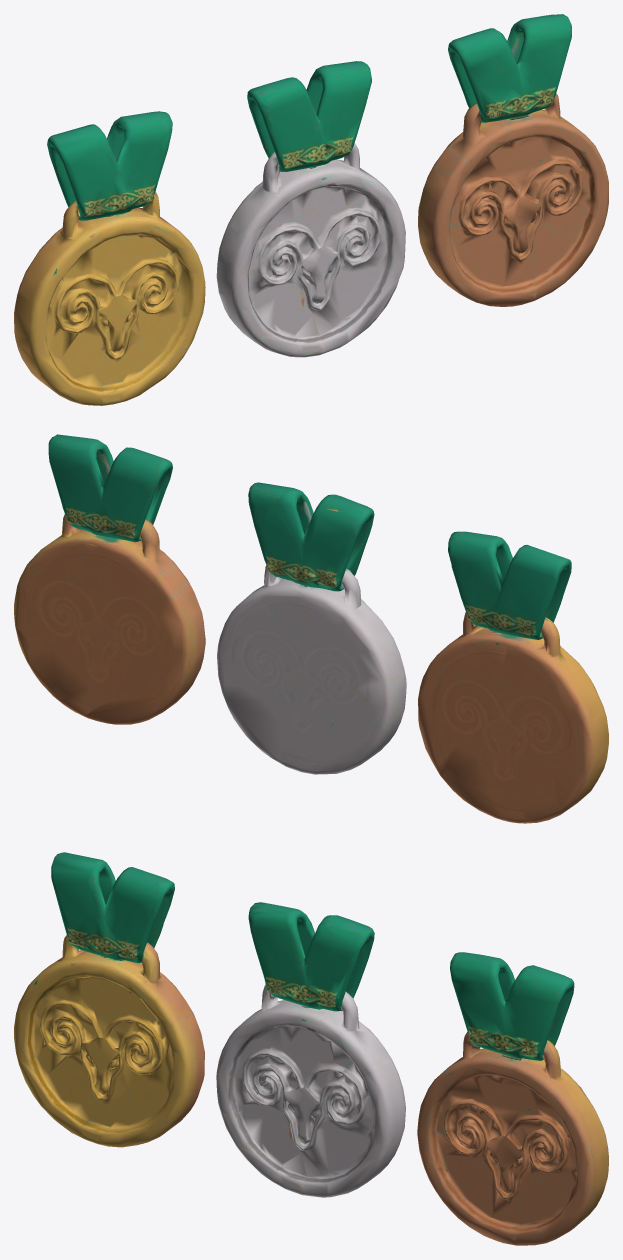
File: medals.glb
3 views of the same model, one above another, from view 1: azimuth 30°, elevation 25°; view 2: azimuth 150°, elevation 25°; view 3: azimuth 330°, elevation 25° (orthographic).
Parts seen in each view (by area): view 1: gold, bronze, silver; view 2: bronze, silver, gold; view 3: gold, bronze, silver.
Part boxes in pixels (x1,y1,x2,y2): gold: (14, 111, 205, 405); bronze: (418, 14, 608, 306); silver: (216, 61, 405, 357); bronze: (14, 434, 205, 724); silver: (217, 482, 406, 774); gold: (418, 531, 608, 823); gold: (14, 852, 204, 1147); bronze: (417, 952, 608, 1245); silver: (216, 902, 405, 1197).
Size of the model in its own units: 1.9 by 0.8633 by 0.1245.
1 material, 1 textured.
